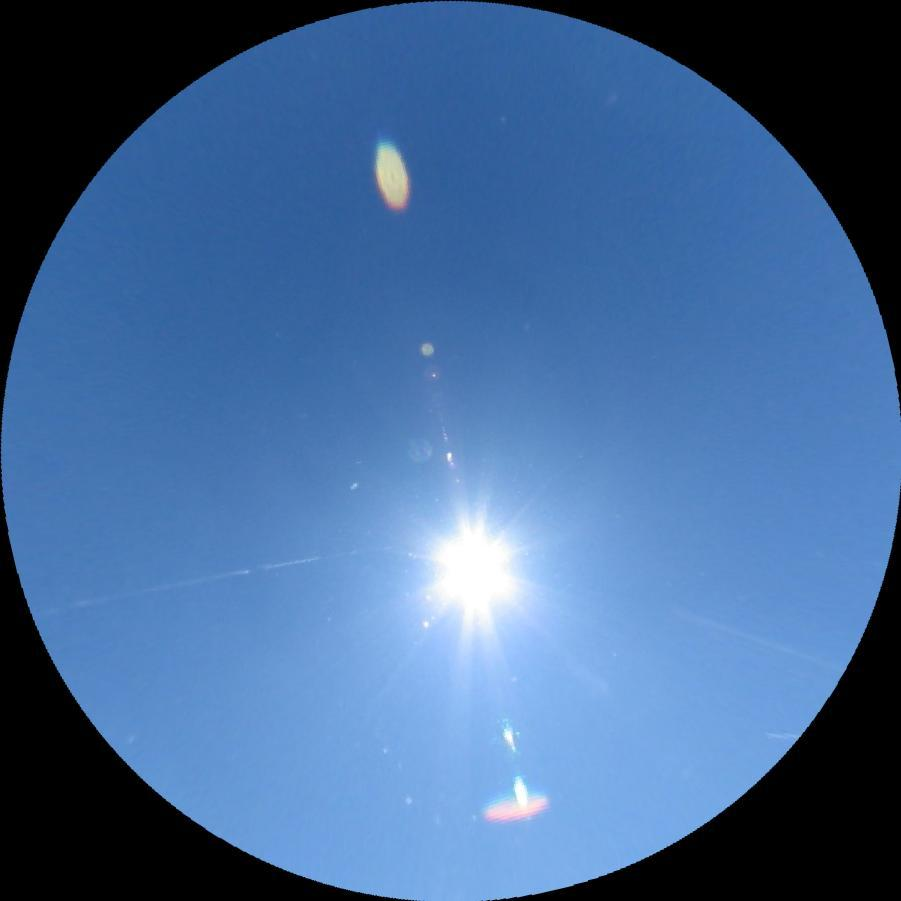contrail young: (764, 732, 800, 742)
parasite: (31, 536, 389, 618), (658, 599, 845, 676)
sun: (414, 513, 527, 626)
